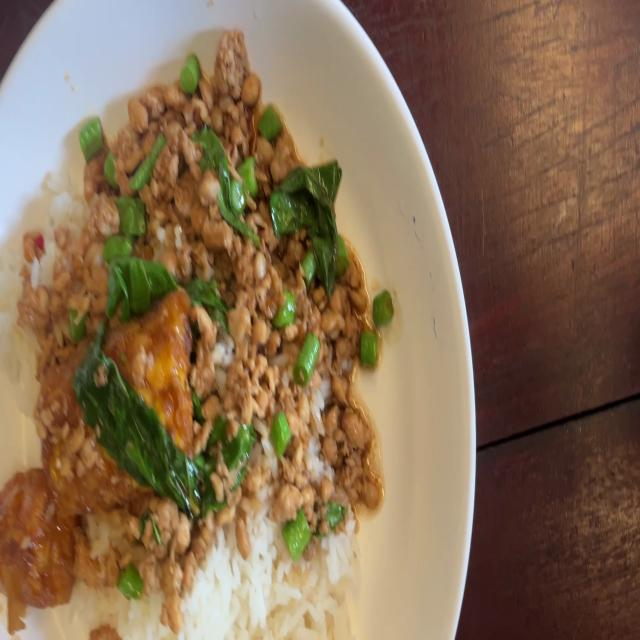01rice: (192, 555, 366, 640), (37, 184, 90, 276), (36, 236, 61, 289)
fried_tofo: (51, 296, 182, 497), (0, 475, 71, 594), (36, 351, 88, 464)
minced_pork: (80, 44, 364, 304), (193, 301, 379, 499), (23, 217, 102, 347), (0, 215, 46, 399), (122, 517, 190, 627), (98, 152, 154, 274), (208, 31, 258, 158), (124, 83, 192, 166), (72, 530, 119, 591), (114, 120, 149, 174), (83, 147, 113, 205), (90, 194, 120, 238), (136, 88, 165, 124), (114, 158, 134, 198)
stir_fried_basil: (0, 35, 389, 639)
